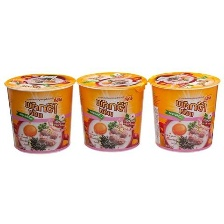paper_cup: (144, 67, 224, 155), (1, 68, 79, 157), (74, 67, 150, 155)
